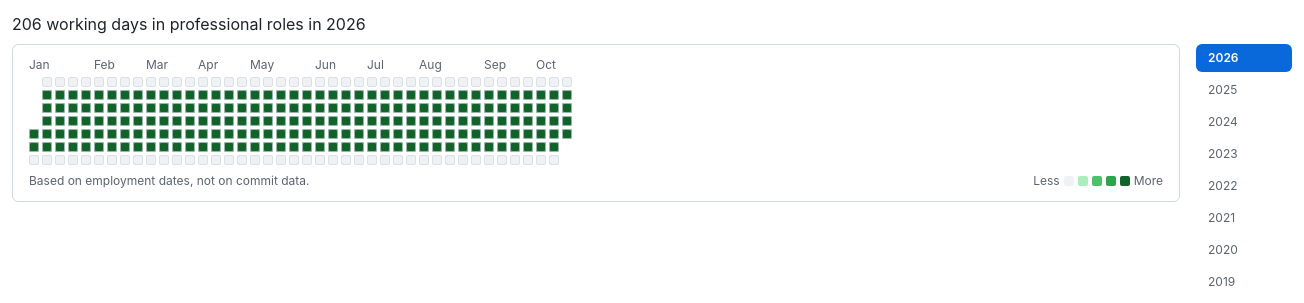
ContributionGraph › starts on the current year and switches years
Expected: the heading shows "in 2026", [12,14,366,34]
Click the button "2022": (1244, 186) [1196,172,1292,200]
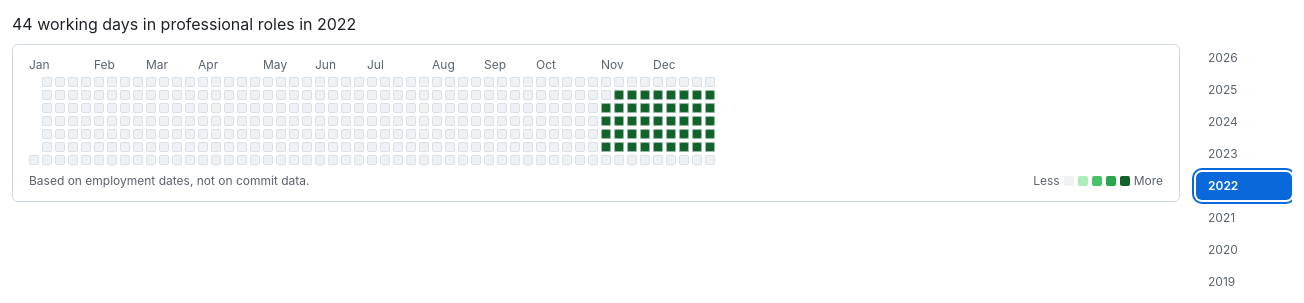
Expected: the heading shows "in 2022", [12,14,356,34]
